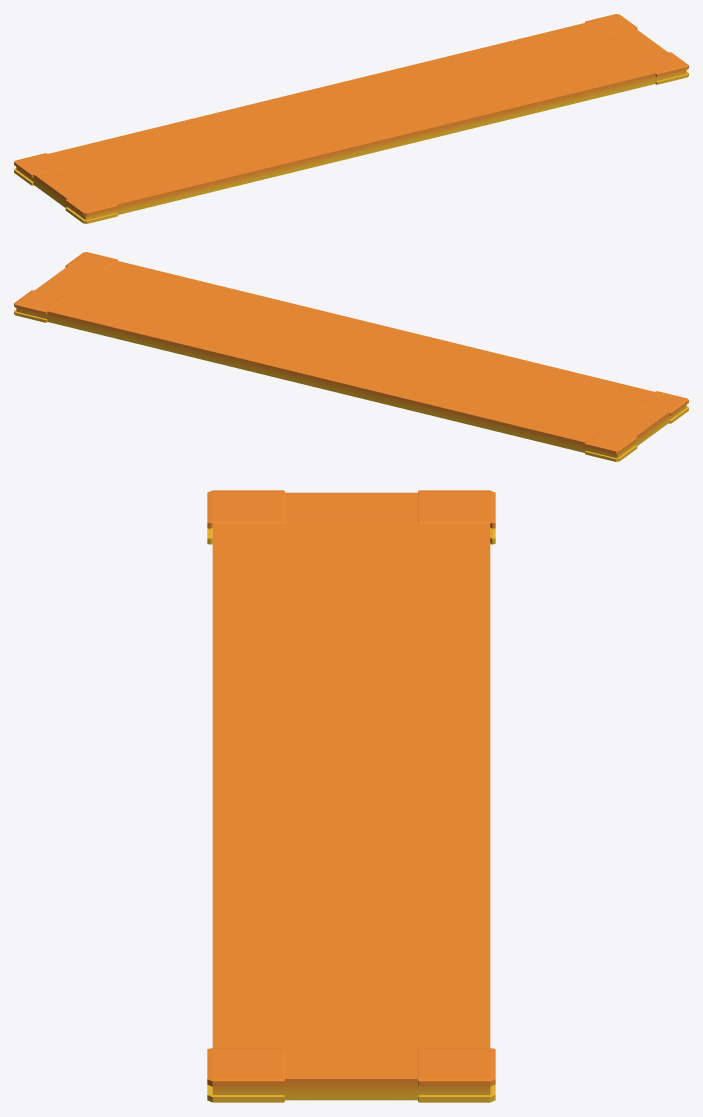
Rendered from LongTile.fbx.
3 renders of one model, top to bottom at view 1: azimuth 30°, elevation 25°; view 2: azimuth 150°, elevation 25°; view 3: azimuth 270°, elevation 25°, orthographic. The views are drawn at different scales.
Visible parts, largest first — view 1: LongTile; view 2: LongTile; view 3: LongTile.
Boxes of the visible parts, x1,y1,x2,y2 form: LongTile: [14, 14, 688, 223]; LongTile: [14, 252, 688, 461]; LongTile: [207, 490, 495, 1102].
Bounding box in the file's own units: 10.08 × 0.1744 × 2.08.
